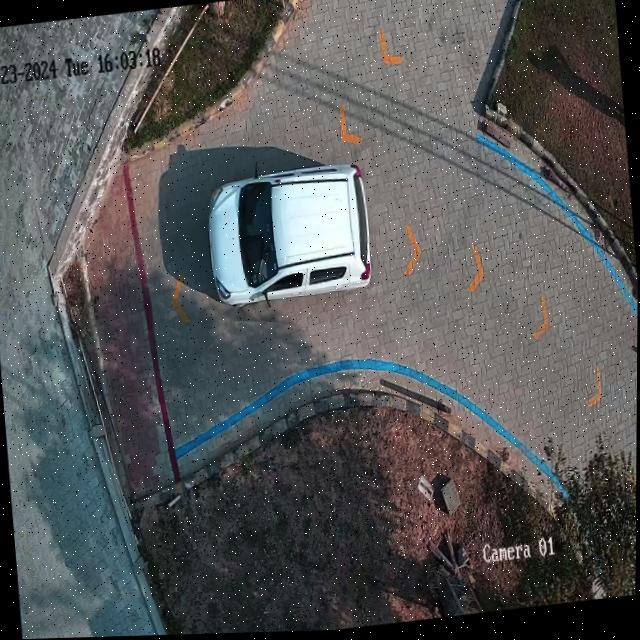car: (208, 166, 371, 307)
